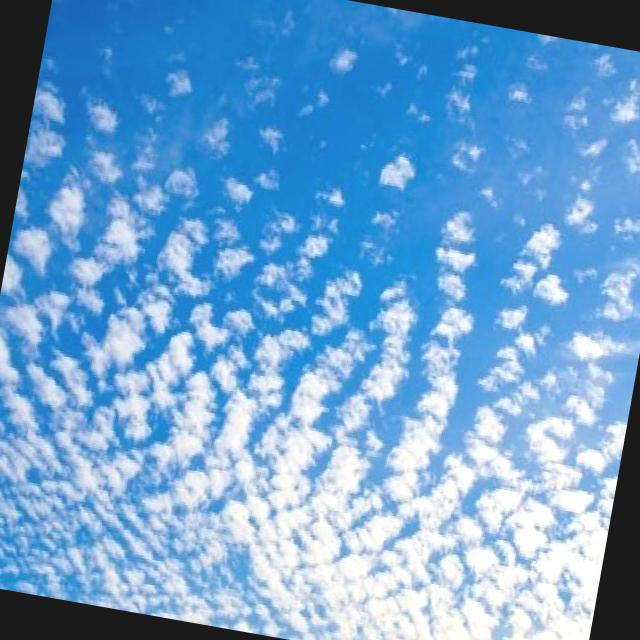altocumulus: (0, 139, 626, 640)
